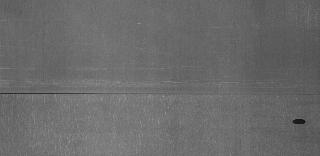punching hole: (290, 118, 306, 126)
welding line: (2, 91, 320, 101)
